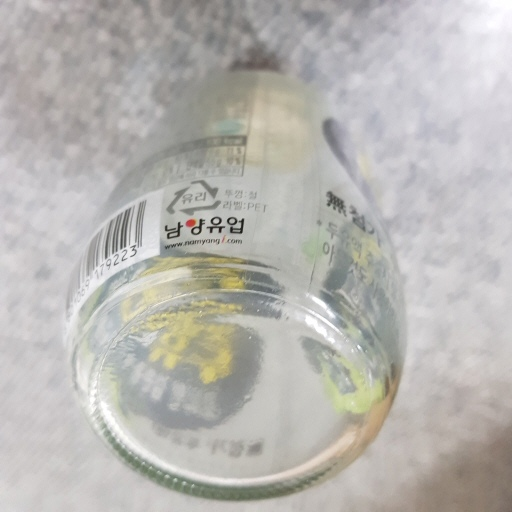Glass_4: (58, 70, 411, 497)
